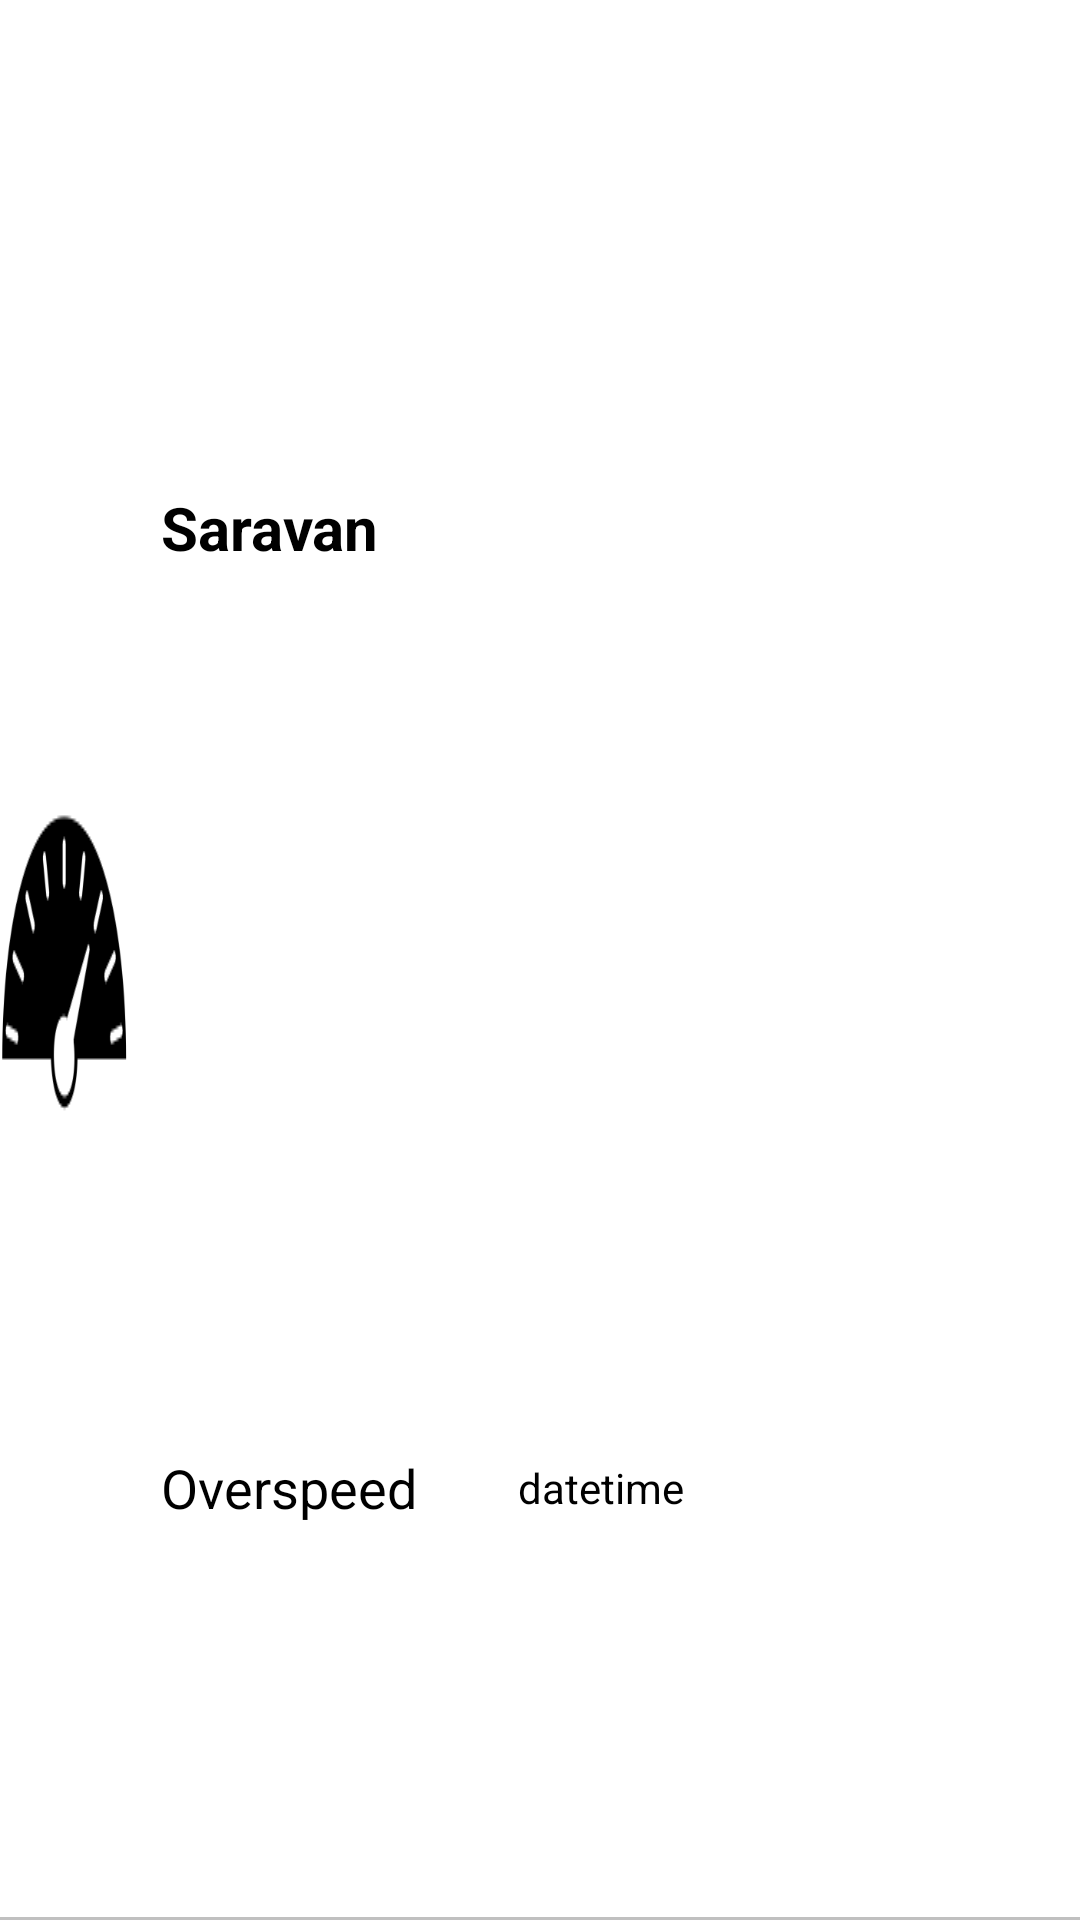

Icons on this 1080*1920 Android screen, each with its box as (x1=x1, y1=y1, x2=x2, y2=y2):
speedometer: (x1=2, y1=815, x2=127, y2=1110)
